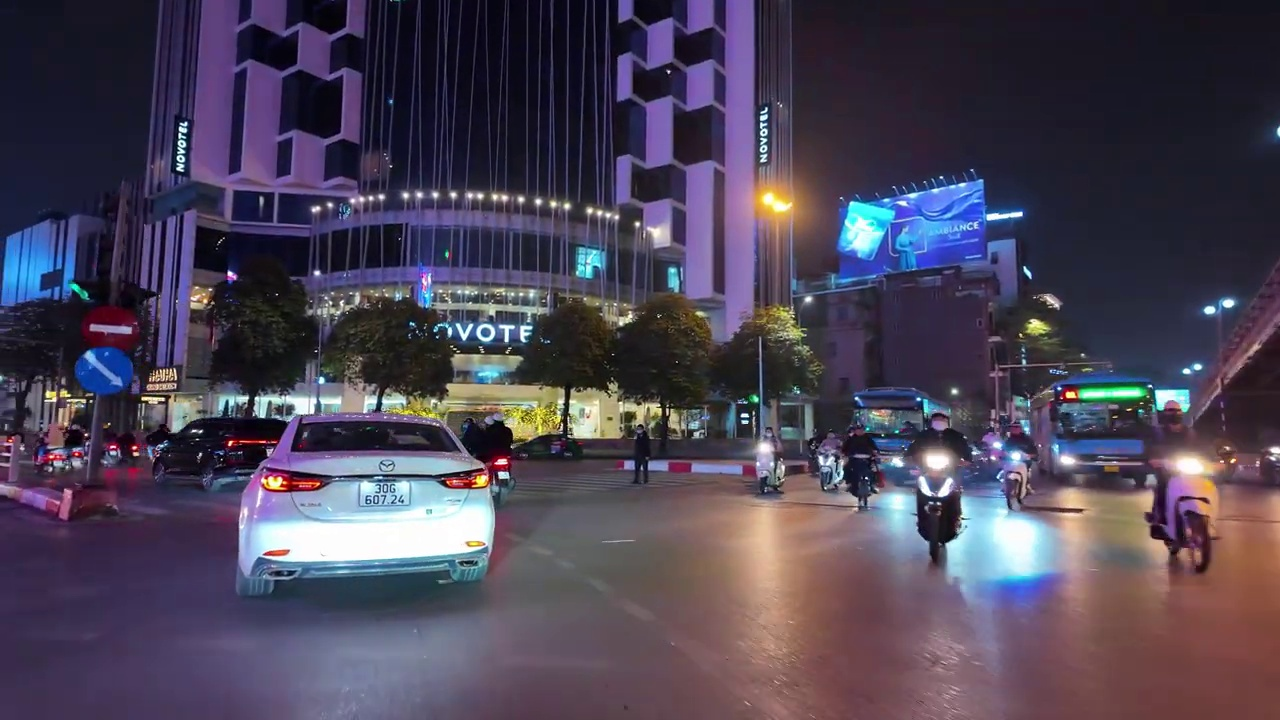acesa: (753, 184, 797, 225)
